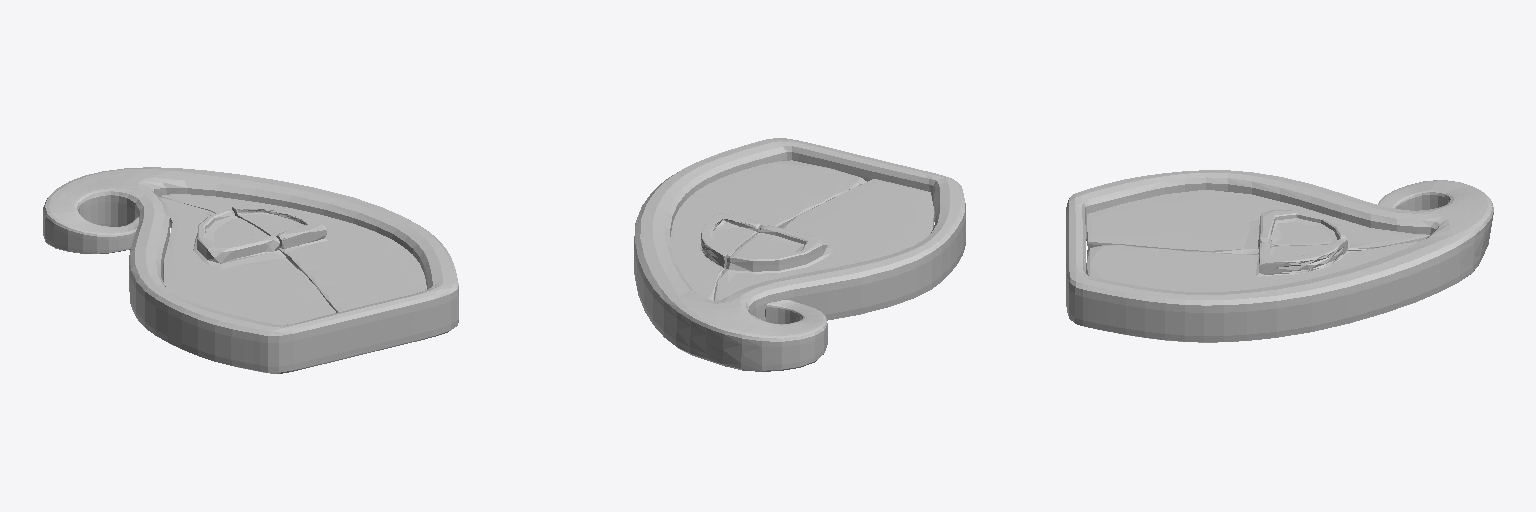
3 renders of one model, left to right at view 1: azimuth 30°, elevation 25°; view 2: azimuth 150°, elevation 25°; view 3: azimuth 270°, elevation 25°, orthographic.
Visible parts, largest first — view 1: Frame_Cube, Lef_Door_Cube.001, Right_door_Cube.002; view 2: Frame_Cube, Lef_Door_Cube.001, Right_door_Cube.002; view 3: Frame_Cube, Lef_Door_Cube.001, Right_door_Cube.002.
Part boxes in pixels (x1,y1,x2,y2): Frame_Cube: (43,167,458,373); Lef_Door_Cube.001: (159,197,335,324); Right_door_Cube.002: (159,194,426,312); Frame_Cube: (634,138,965,371); Lef_Door_Cube.001: (715,179,934,300); Right_door_Cube.002: (671,160,866,300); Frame_Cube: (1066,170,1493,342); Lef_Door_Cube.001: (1087,190,1429,253); Right_door_Cube.002: (1086,239,1421,291).
Size of the model in its own units: 3.49 by 0.545 by 4.7.